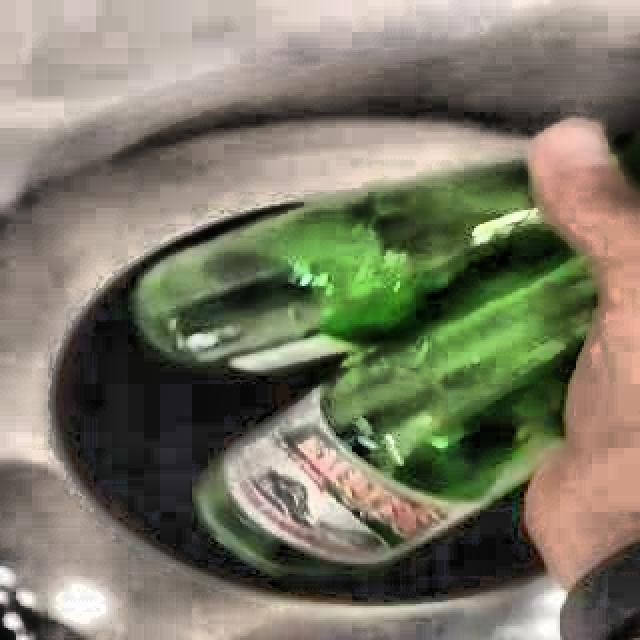glass: (139, 162, 597, 573)
